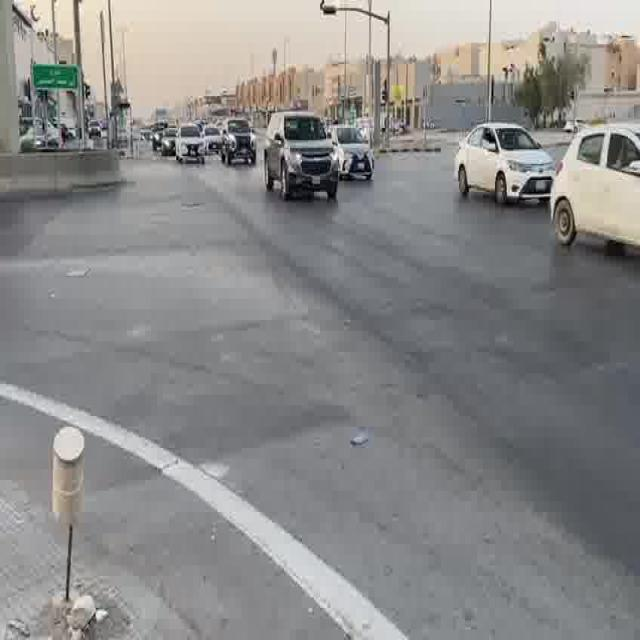bus: (550, 127, 640, 260), (453, 124, 555, 204), (265, 111, 345, 201), (331, 127, 377, 183), (228, 122, 258, 166), (176, 126, 205, 163), (204, 127, 222, 152)
car: (179, 209, 640, 640), (550, 127, 640, 260), (453, 124, 555, 204), (265, 111, 345, 201), (331, 127, 377, 183), (228, 122, 258, 166), (176, 126, 205, 163), (204, 127, 222, 152)
lanes: (179, 209, 640, 640), (226, 209, 639, 634)
lanes2: (226, 209, 639, 634), (260, 205, 640, 474)
lanes3: (260, 205, 640, 474), (286, 201, 640, 404)
lanes4: (286, 201, 640, 404), (327, 192, 640, 313)
lanes5: (327, 192, 640, 313)
